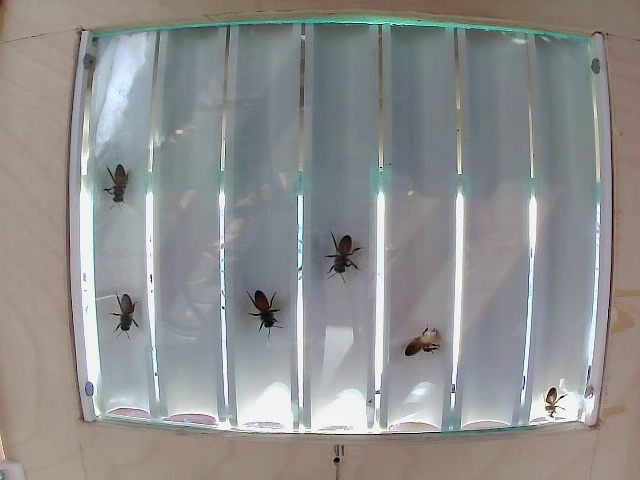bee: (101, 161, 155, 212), (396, 319, 444, 361), (532, 382, 581, 422), (249, 289, 288, 337), (114, 291, 148, 333), (332, 243, 364, 286)
